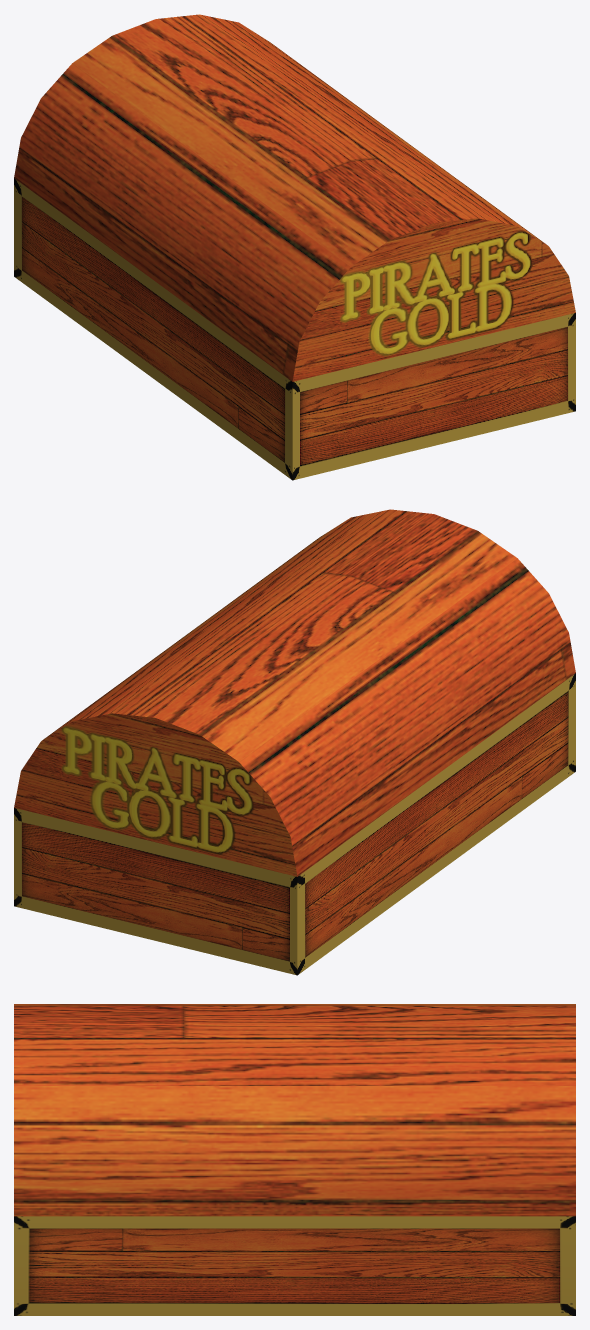
File: Treasure_1.fbx
3 views of the same model, one above another, from view 1: azimuth 30°, elevation 25°; view 2: azimuth 150°, elevation 25°; view 3: azimuth 270°, elevation 25° (orthographic).
Parts seen in each view (by area): view 1: pCylinder1; view 2: pCylinder1; view 3: pCylinder1.
Boxes of the visible parts, x1,y1,x2,y2 form: pCylinder1: (14, 14, 575, 480); pCylinder1: (14, 509, 575, 975); pCylinder1: (14, 1004, 575, 1315).
Size of the model in its own units: 182 by 137 by 311.
1 material, 1 textured.
